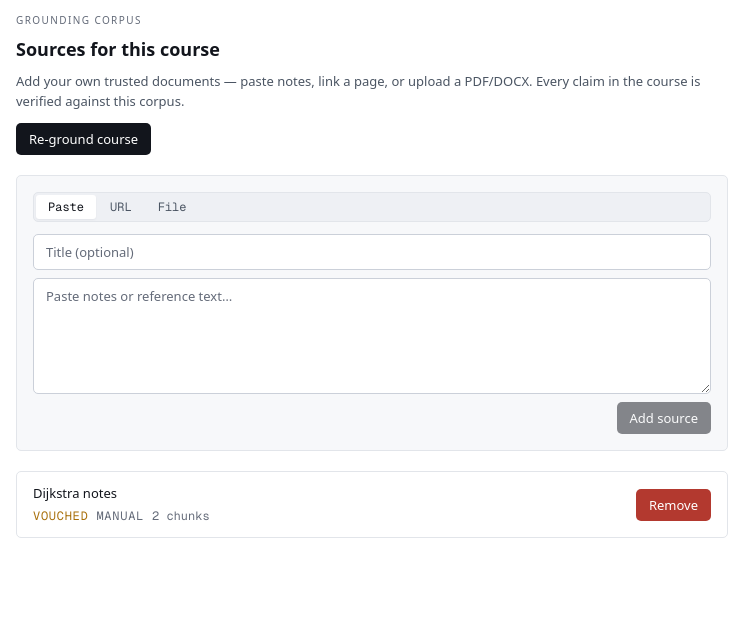
it: CorpusPanel › removes a source on Remove
Expected: the text "Dijkstra notes" is shown, 33,484 -> 117,502
Click the button "Remove": point(673, 504) 636,488 -> 711,520
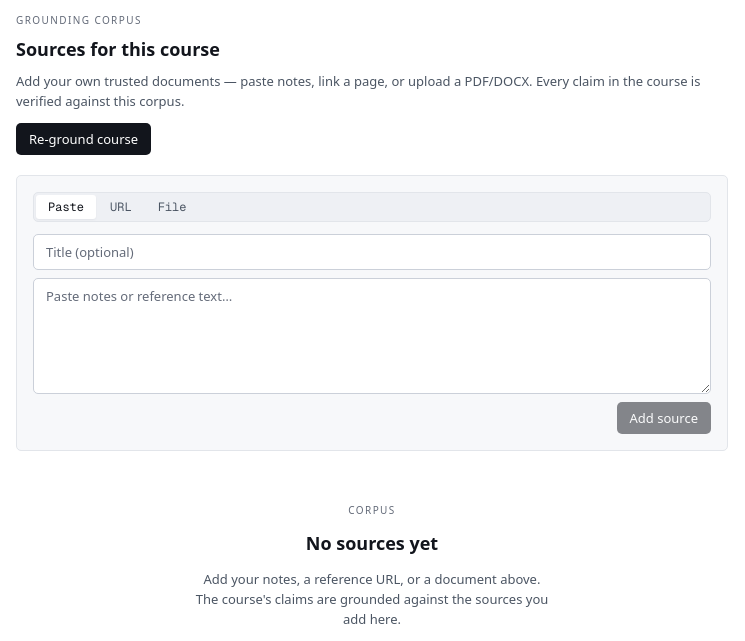
Expected: the heading "No sources yet" is shown, 306,530 -> 438,557
